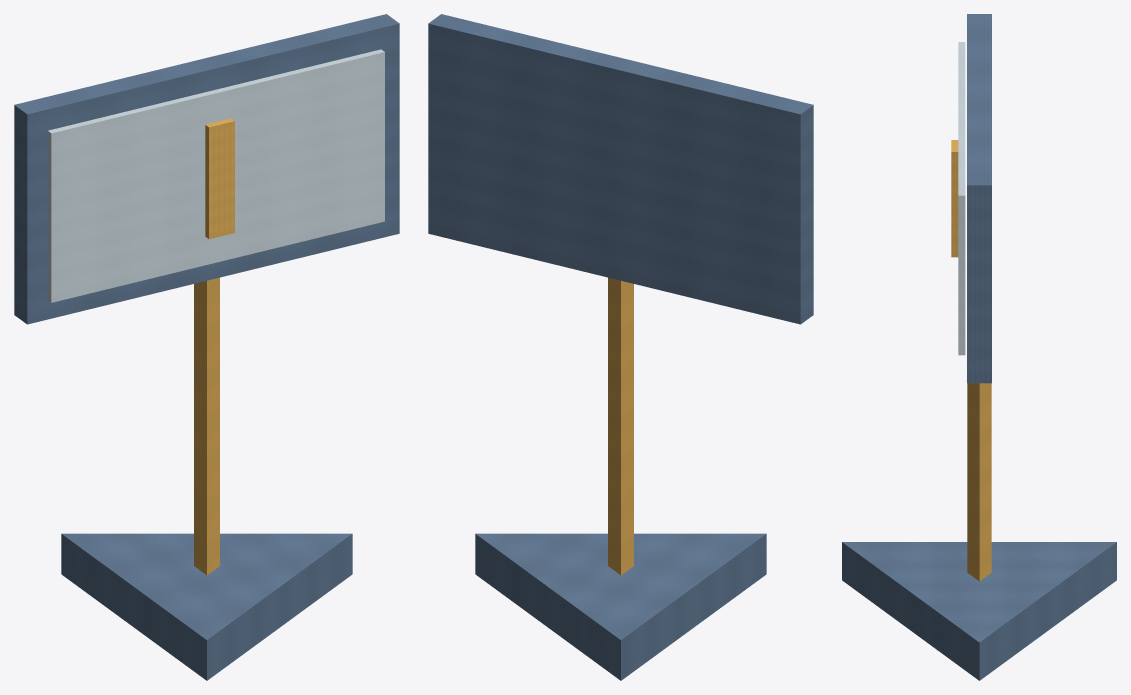
File: atlas100-s052-a11.lod2.glb
3 renders of one model, left to right at view 1: azimuth 30°, elevation 25°; view 2: azimuth 150°, elevation 25°; view 3: azimuth 270°, elevation 25°, orthographic. The views are drawn at different scales.
Parts seen in each view (by area): view 1: atlas100-s052-a11:part-003, atlas100-s052-a11:part-002, atlas100-s052-a11:part-000, atlas100-s052-a11:part-001, atlas100-s052-a11:part-005; view 2: atlas100-s052-a11:part-002, atlas100-s052-a11:part-000, atlas100-s052-a11:part-001; view 3: atlas100-s052-a11:part-000, atlas100-s052-a11:part-002, atlas100-s052-a11:part-001, atlas100-s052-a11:part-003, atlas100-s052-a11:part-005.
Boxes of the visible parts, x1,y1,x2,y2 form: atlas100-s052-a11:part-003: (47,49,384,302); atlas100-s052-a11:part-002: (14,14,399,324); atlas100-s052-a11:part-000: (61,533,352,680); atlas100-s052-a11:part-001: (194,277,219,575); atlas100-s052-a11:part-005: (205,118,234,239); atlas100-s052-a11:part-002: (428,14,813,324); atlas100-s052-a11:part-000: (475,533,766,680); atlas100-s052-a11:part-001: (608,277,633,575); atlas100-s052-a11:part-000: (842,542,1116,680); atlas100-s052-a11:part-002: (967,14,991,383); atlas100-s052-a11:part-001: (967,383,991,581); atlas100-s052-a11:part-003: (958,42,965,355); atlas100-s052-a11:part-005: (951,140,958,257).
Bounding box in the file's own units: 1.15 × 1.61 × 0.7794.
Materials: 3 (3 with a texture image).
